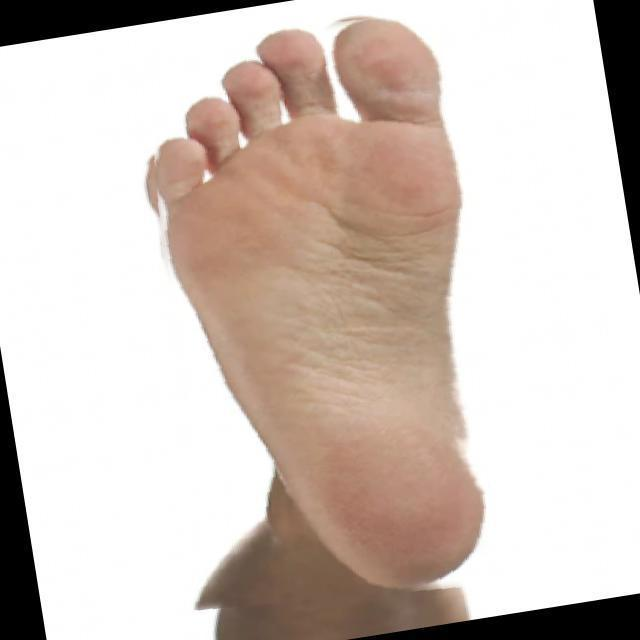No_Shoes: (137, 33, 518, 594)
